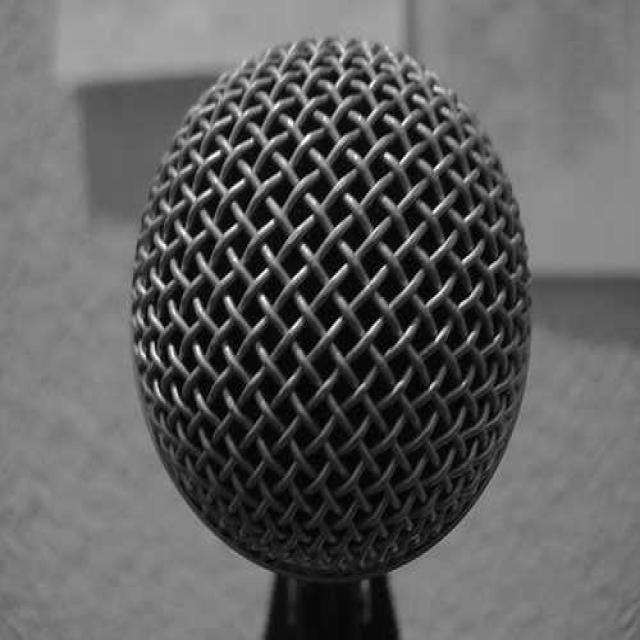microphone: (132, 41, 529, 568)
